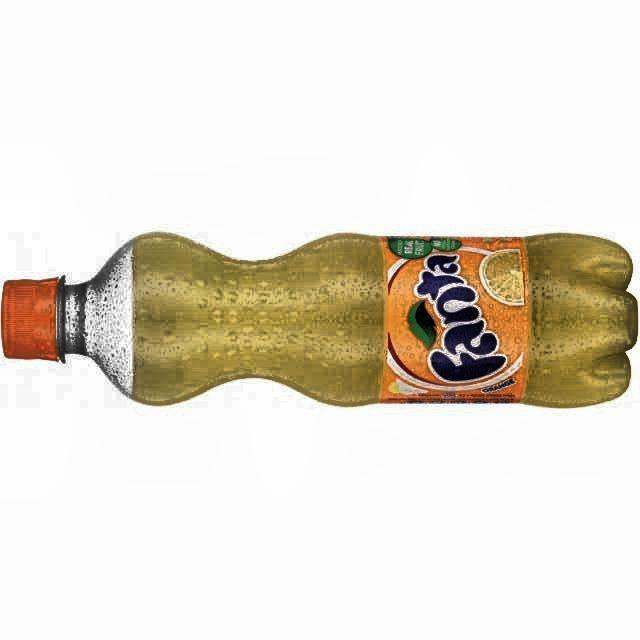plastic: (1, 232, 638, 407)
